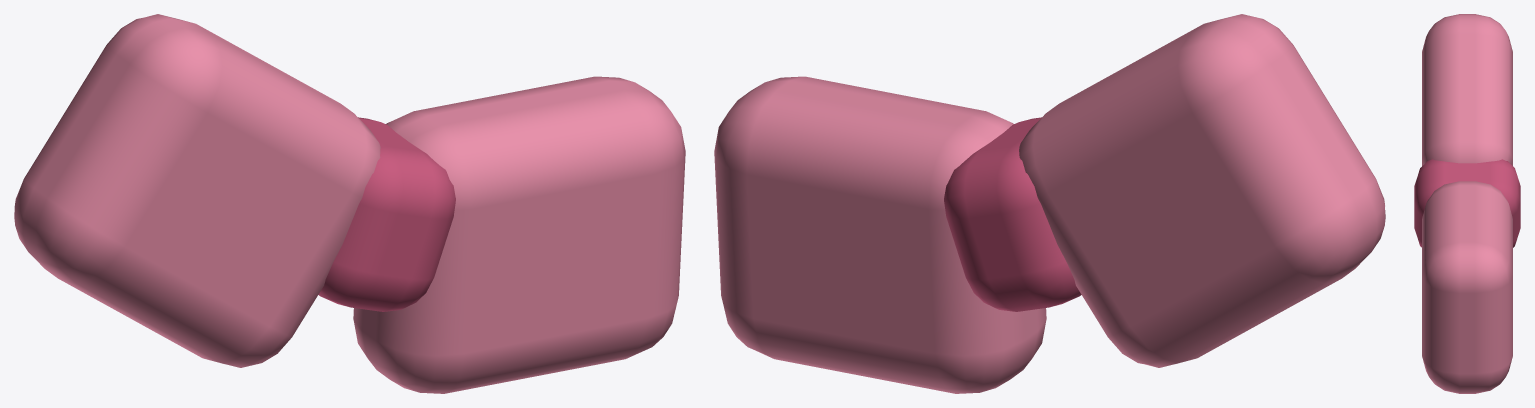
File: acc-bow.glb
3 renders of one model, left to right at view 1: azimuth 30°, elevation 25°; view 2: azimuth 150°, elevation 25°; view 3: azimuth 270°, elevation 25°, orthographic. The views are drawn at different scales.
Parts seen in each view (by area): view 1: acc-bow; view 2: acc-bow; view 3: acc-bow.
Part boxes in pixels (x1,y1,x2,y2): acc-bow: (14,14,685,393); acc-bow: (714,14,1385,393); acc-bow: (1414,14,1520,393).
Bounding box in the file's own units: 0.5642 × 0.3625 × 0.14.
